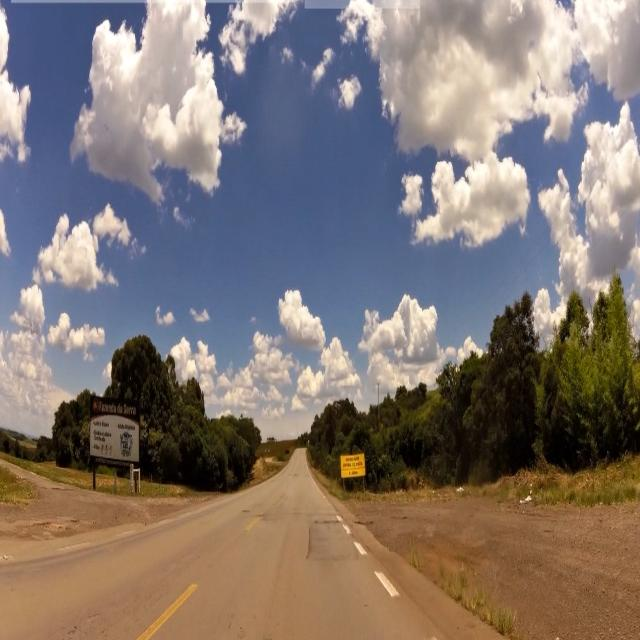ESP-20: (340, 454, 366, 480)
